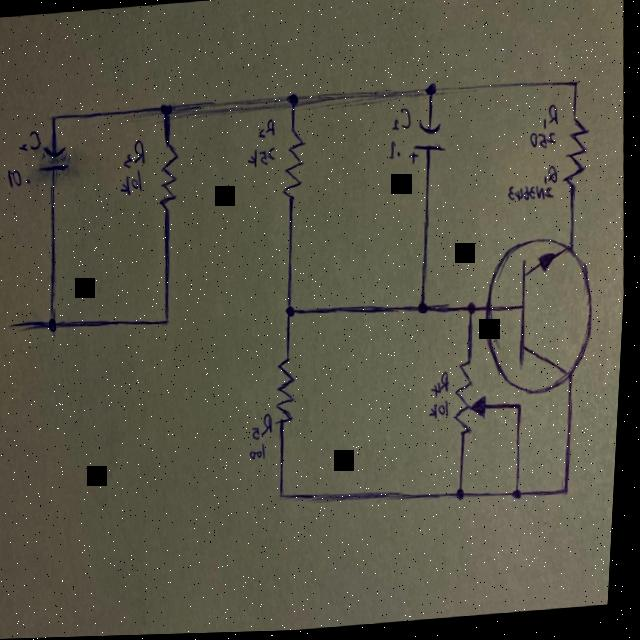capacitor: (407, 119, 449, 166), (39, 142, 72, 174)
junction: (152, 93, 179, 124), (281, 294, 305, 324), (276, 480, 300, 509), (512, 480, 534, 511), (283, 85, 305, 115), (413, 294, 435, 323), (421, 77, 442, 104), (455, 482, 477, 507), (160, 307, 180, 332), (45, 105, 65, 129), (48, 310, 66, 336), (559, 481, 578, 504), (466, 298, 484, 320), (515, 397, 529, 420), (568, 74, 583, 95)
resistor: (454, 359, 495, 438), (559, 115, 596, 197), (280, 126, 312, 207), (154, 139, 184, 216), (275, 357, 303, 433)
terminal: (1, 309, 35, 339)
text: (507, 186, 557, 206), (246, 143, 280, 172), (122, 135, 147, 170), (119, 168, 147, 198), (526, 130, 559, 154), (390, 105, 414, 135), (432, 370, 456, 399), (255, 411, 278, 441), (540, 102, 562, 132), (431, 399, 456, 424), (19, 126, 43, 152), (7, 166, 34, 189), (257, 116, 279, 142), (387, 138, 406, 164), (252, 442, 272, 465), (542, 166, 562, 188)
transistor: (481, 235, 605, 398)
